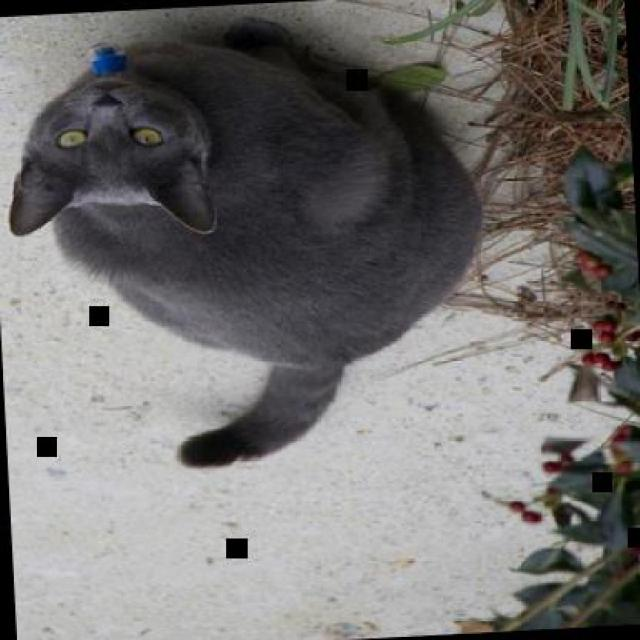cat: (0, 3, 492, 480)
